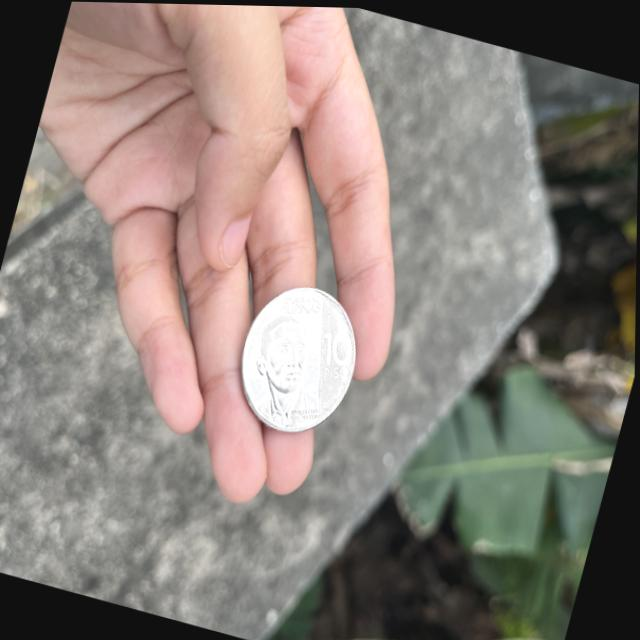10_New_Front: (312, 325, 360, 389)
